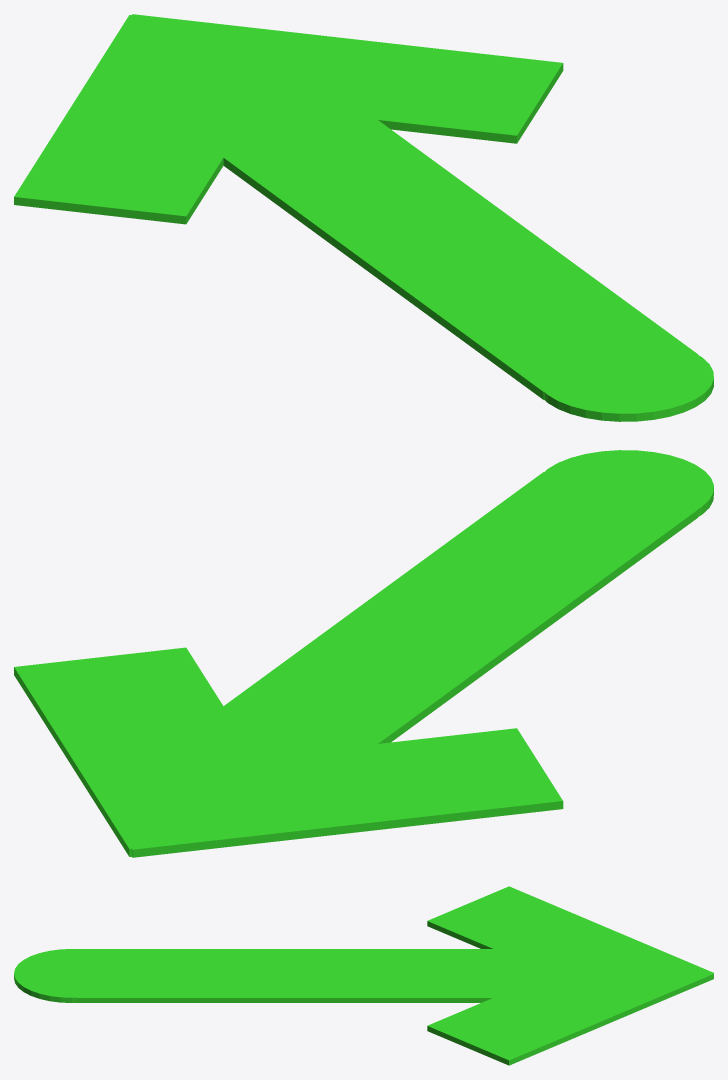
Rendered from Flechedirection.dae.
3 renders of one model, top to bottom at view 1: azimuth 30°, elevation 25°; view 2: azimuth 150°, elevation 25°; view 3: azimuth 270°, elevation 25°, orthographic. The views are drawn at different scales.
Visible parts, largest first — view 1: Cube, Cube_002, Cube_001, Cylinder; view 2: Cube, Cube_002, Cube_001, Cylinder; view 3: Cube, Cube_001, Cube_002, Cylinder.
Part boxes in pixels (box(x1,y1,x2,y2)): Cube: box(100, 28, 698, 399); Cube_002: box(86, 14, 563, 143); Cube_001: box(14, 15, 299, 224); Cylinder: box(536, 338, 713, 421); Cube: box(100, 472, 698, 835); Cube_002: box(14, 647, 301, 856); Cube_001: box(89, 728, 563, 857); Cylinder: box(536, 450, 713, 525); Cube: box(77, 949, 656, 1002); Cube_001: box(427, 886, 713, 1007); Cube_002: box(427, 939, 713, 1065); Cylinder: box(14, 949, 128, 1002).
Bounding box in the file's own units: 7.11 × 12.08 × 0.1.
